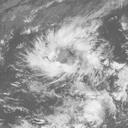cyclone: (25, 26, 106, 80)
